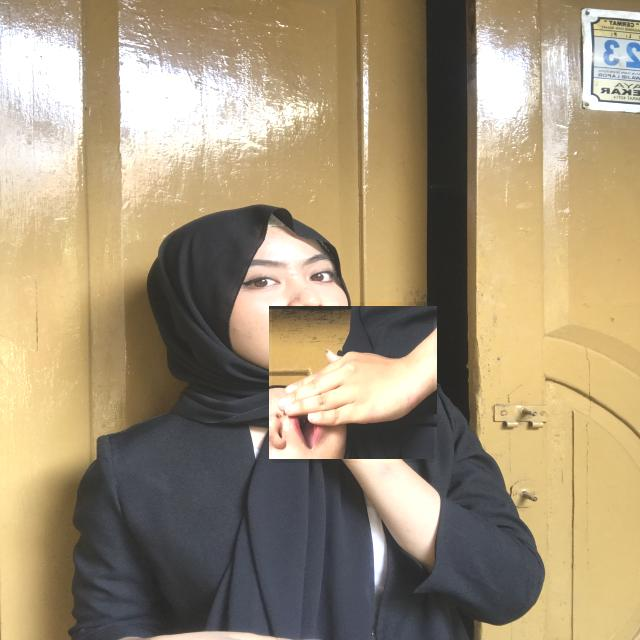ngantuk: (272, 302, 434, 463)
